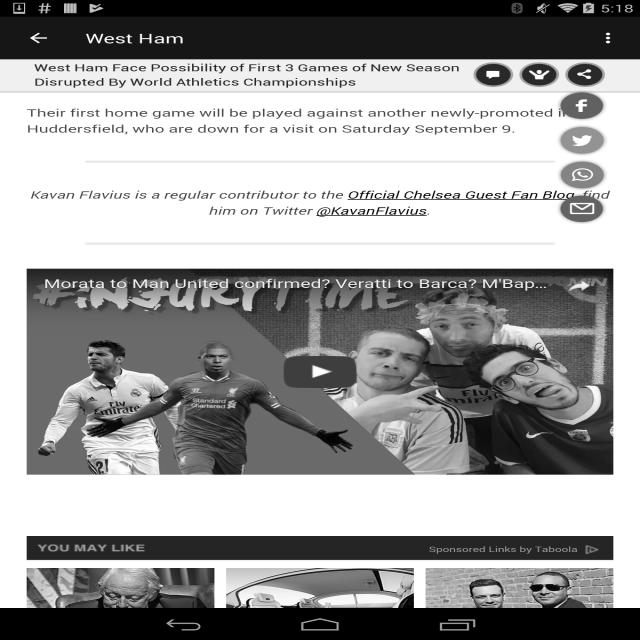Button: (284, 121, 356, 153), (560, 34, 598, 62)
ImageButton: (9, 17, 68, 59), (473, 62, 514, 87), (565, 62, 605, 87)
ImageView: (13, 62, 627, 236), (13, 474, 409, 602), (322, 316, 626, 394), (12, 62, 628, 66), (12, 474, 628, 478), (556, 89, 608, 122), (556, 124, 608, 157), (556, 159, 608, 191), (556, 193, 608, 224), (589, 22, 631, 54), (12, 316, 319, 320), (321, 316, 628, 320), (26, 439, 65, 464), (92, 289, 130, 314), (347, 447, 385, 472), (421, 577, 459, 602), (26, 360, 65, 384), (451, 447, 488, 472), (499, 577, 536, 602), (572, 577, 609, 602), (297, 289, 333, 314), (507, 289, 543, 314), (558, 447, 594, 472), (12, 396, 319, 398), (257, 369, 285, 384), (257, 448, 285, 463), (529, 70, 549, 80), (176, 361, 186, 372), (176, 440, 186, 450), (408, 576, 409, 602), (217, 289, 218, 314), (422, 289, 423, 314), (423, 447, 424, 472), (525, 447, 526, 472), (481, 577, 482, 602), (554, 577, 554, 602)
ProgressBar: (294, 133, 346, 165), (449, 339, 500, 371), (186, 522, 237, 554)
TextView: (0, 59, 640, 93), (22, 239, 618, 268), (418, 480, 618, 553), (26, 324, 305, 354), (26, 404, 305, 434), (331, 397, 618, 426), (86, 29, 184, 47), (39, 272, 171, 284), (435, 558, 542, 571), (348, 430, 456, 442), (73, 451, 161, 464), (73, 361, 173, 372), (73, 372, 161, 384), (73, 440, 173, 450), (418, 558, 434, 572), (22, 272, 39, 284), (331, 430, 348, 442), (286, 375, 300, 385), (286, 454, 300, 464), (384, 454, 398, 464), (333, 296, 343, 306), (458, 584, 468, 594), (488, 454, 497, 464), (130, 296, 138, 306)
